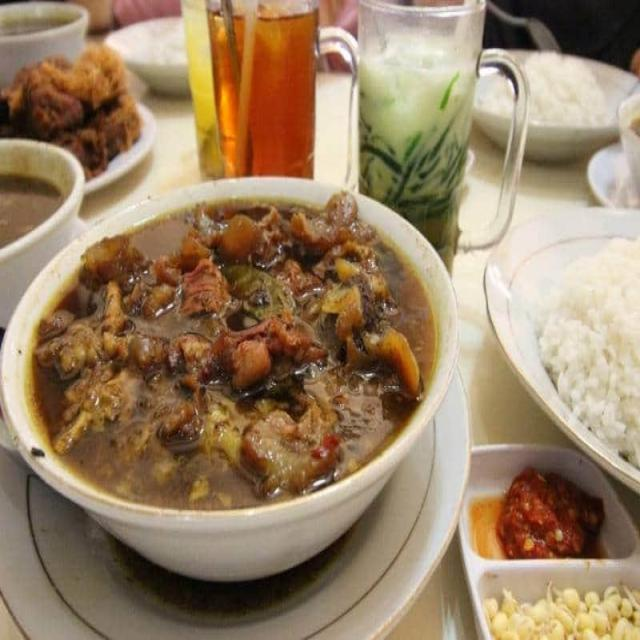Rawon: (35, 220, 437, 513)
